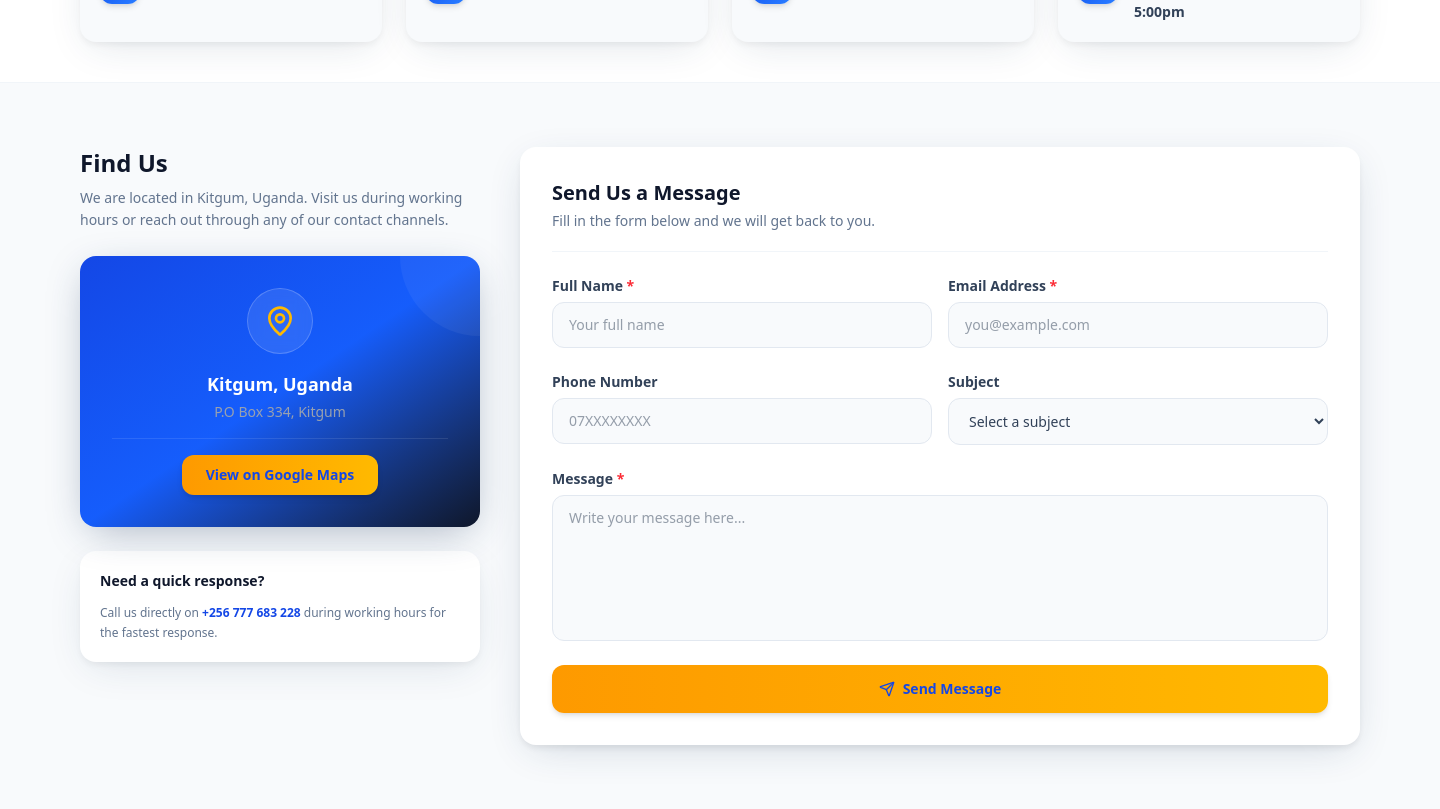
Test case: Contact page › shows validation errors when form is submitted empty
(page scrolled)
Click the button "Send Message" at point(940, 689), box [552,665,1328,713]
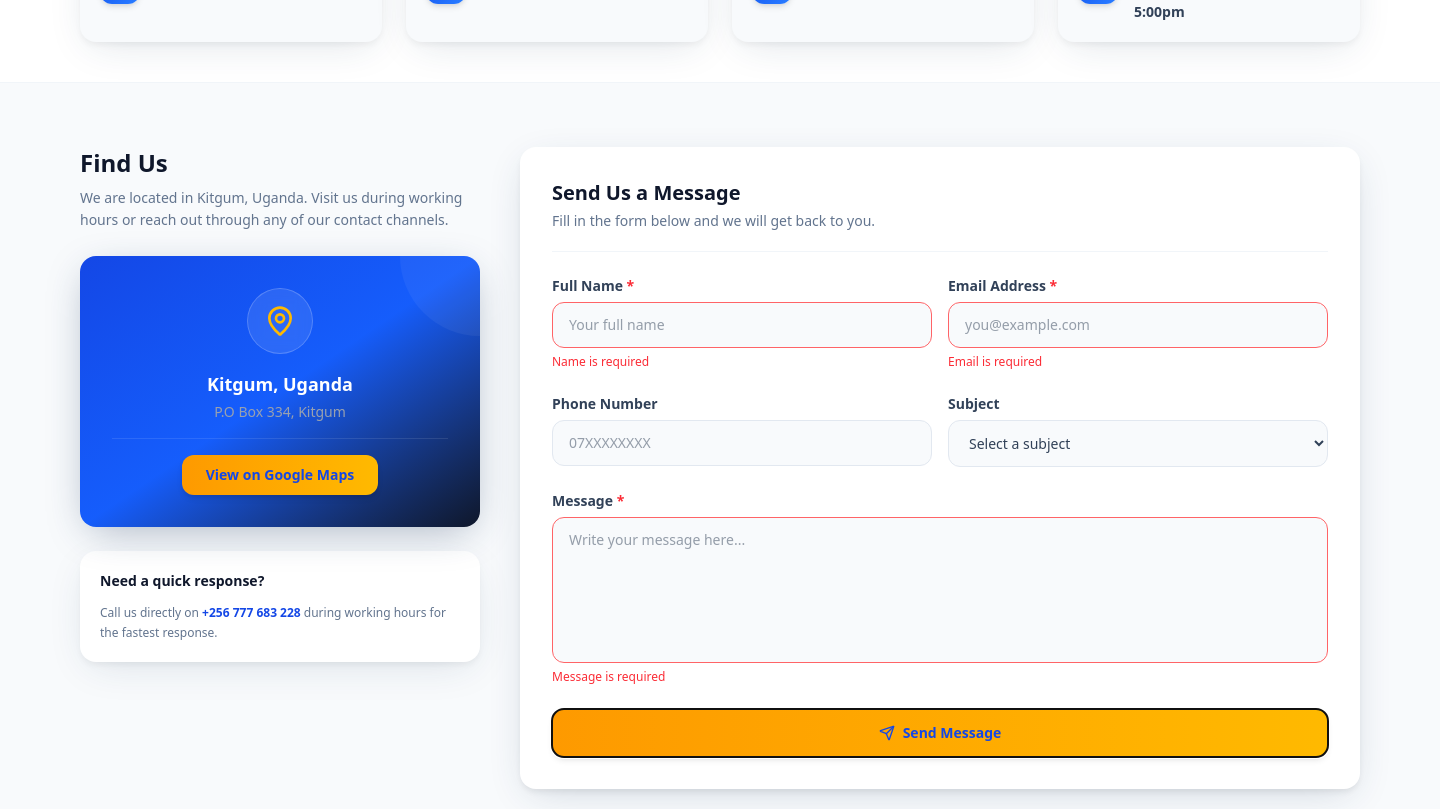
Now the text "Name is required" is shown, box [552,353,649,370]
Now the text "Email is required" is shown, box [948,353,1042,370]
Now the text "Message is required" is shown, box [552,668,665,685]
